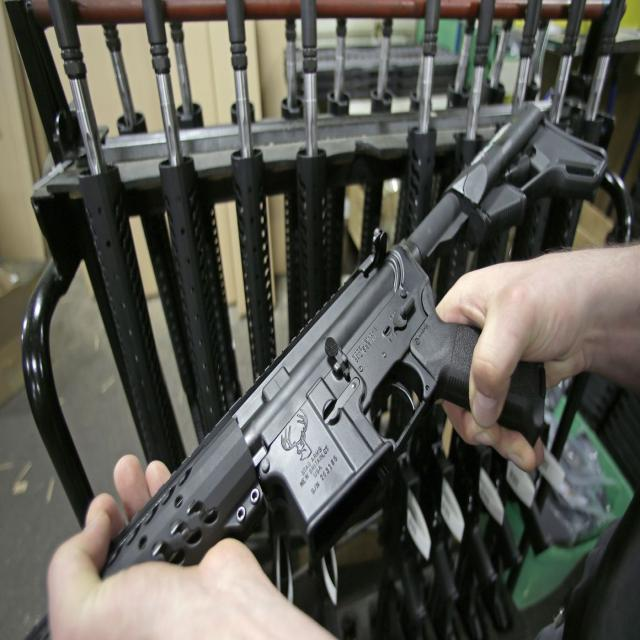Rifle: (101, 107, 608, 579)
